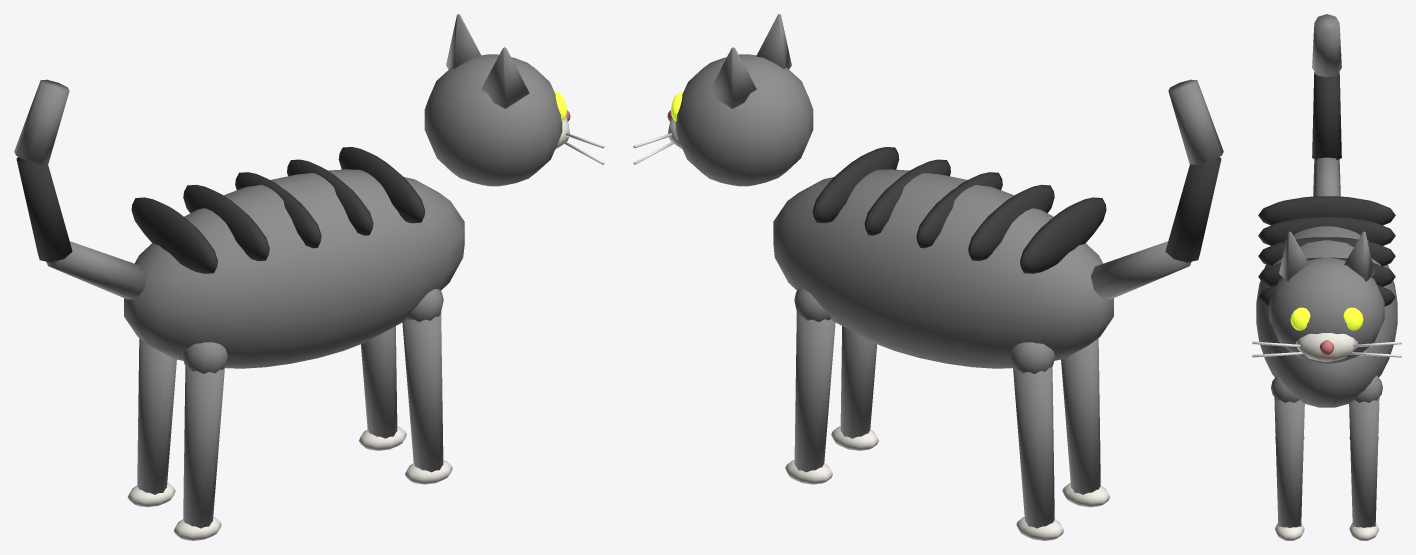
File: cat.glb
3 views of the same model, side by side, from view 1: azimuth 30°, elevation 25°; view 2: azimuth 150°, elevation 25°; view 3: azimuth 270°, elevation 25° (orthographic). The views are drawn at different scales.
Parts seen in each view (by area): view 1: Sphere, Sphere.007, Leg_BR, Leg_FR, Leg_BL, Leg_FL, Sphere.002, Cone.003, Cone.002, Cone.004, Sphere.003, Sphere.006 (+4 smaller); view 2: Sphere, Sphere.007, Leg_BL, Leg_FL, Leg_BR, Leg_FR, Sphere.002, Cone.003, Cone.002, Cone.004, Sphere.003, Sphere.006 (+4 smaller); view 3: Sphere, Sphere.007, Leg_FL, Leg_FR, Sphere.002, Cone.003, Sphere.003, Cone.004, Sphere.008, Sphere.004, Cone.002, Cone (+5 smaller).
Boxes of the visible parts, x1=… form: Sphere: x1=124, y1=169, x2=464, y2=368; Sphere.007: x1=424, y1=54, x2=562, y2=186; Leg_BR: x1=174, y1=342, x2=227, y2=540; Leg_FR: x1=402, y1=289, x2=452, y2=484; Leg_BL: x1=127, y1=338, x2=176, y2=507; Leg_FL: x1=359, y1=326, x2=406, y2=450; Sphere.002: x1=131, y1=197, x2=217, y2=273; Cone.003: x1=16, y1=157, x2=72, y2=262; Cone.002: x1=46, y1=241, x2=146, y2=299; Cone.004: x1=14, y1=79, x2=69, y2=164; Sphere.003: x1=183, y1=184, x2=269, y2=260; Sphere.006: x1=338, y1=147, x2=425, y2=223; Sphere: x1=773, y1=169, x2=1113, y2=368; Sphere.007: x1=675, y1=54, x2=813, y2=186; Leg_BL: x1=1010, y1=342, x2=1063, y2=540; Leg_FL: x1=785, y1=289, x2=835, y2=484; Leg_BR: x1=1061, y1=338, x2=1110, y2=507; Leg_FR: x1=831, y1=326, x2=878, y2=450; Sphere.002: x1=1020, y1=197, x2=1106, y2=273; Cone.003: x1=1165, y1=157, x2=1221, y2=262; Cone.002: x1=1091, y1=241, x2=1191, y2=299; Cone.004: x1=1168, y1=79, x2=1223, y2=164; Sphere.003: x1=968, y1=184, x2=1054, y2=260; Sphere.006: x1=812, y1=147, x2=899, y2=223; Sphere: x1=1256, y1=226, x2=1397, y2=407; Sphere.007: x1=1269, y1=257, x2=1384, y2=363; Leg_FL: x1=1349, y1=375, x2=1382, y2=540; Leg_FR: x1=1271, y1=375, x2=1304, y2=540; Sphere.002: x1=1258, y1=196, x2=1395, y2=225; Cone.003: x1=1312, y1=72, x2=1341, y2=159; Sphere.003: x1=1258, y1=216, x2=1395, y2=245; Cone.004: x1=1312, y1=14, x2=1341, y2=77; Sphere.008: x1=1295, y1=333, x2=1358, y2=361; Sphere.004: x1=1258, y1=237, x2=1395, y2=266; Cone.002: x1=1313, y1=157, x2=1340, y2=196; Cone: x1=1279, y1=231, x2=1309, y2=281.
Size of the model in its own units: 0.6924 by 0.563 by 0.2006.
